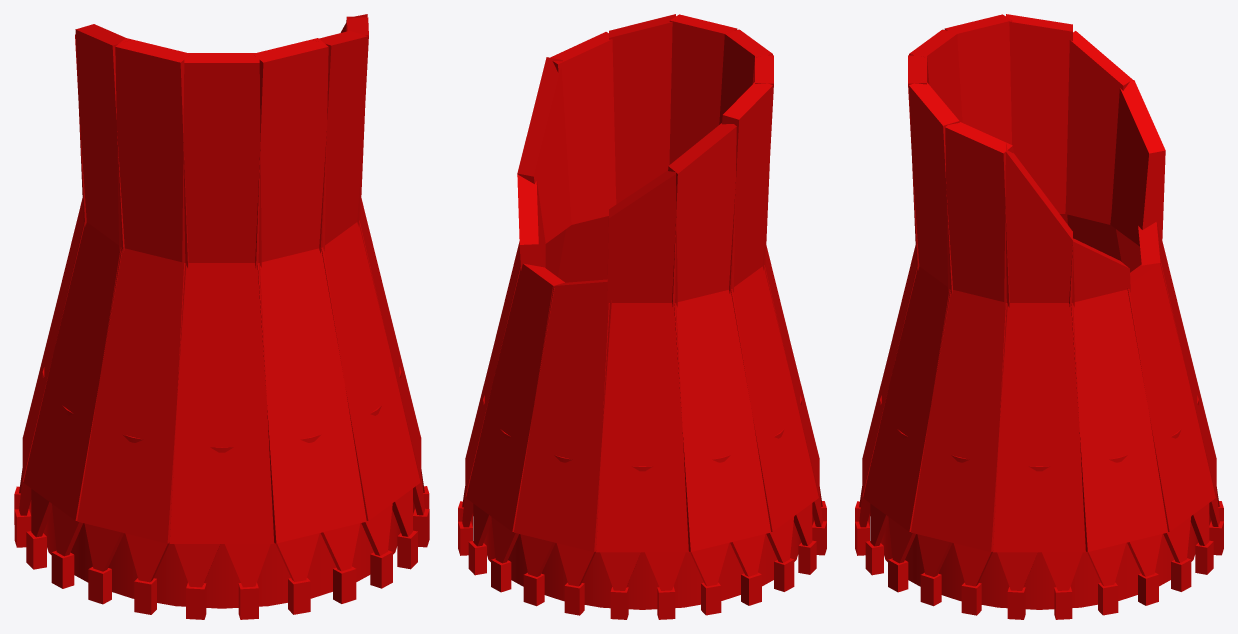
File: SM_Bld_Cooling_Tower_02_Collision.fbx
3 renders of one model, left to right at view 1: azimuth 30°, elevation 25°; view 2: azimuth 150°, elevation 25°; view 3: azimuth 270°, elevation 25°, orthographic. The views are drawn at different scales.
Visible parts, largest first — view 1: SM_Bld_Cooling_Tower_02_Collision; view 2: SM_Bld_Cooling_Tower_02_Collision; view 3: SM_Bld_Cooling_Tower_02_Collision.
Part boxes in pixels (<box>): SM_Bld_Cooling_Tower_02_Collision: <box>14,14,429,619</box>; SM_Bld_Cooling_Tower_02_Collision: <box>458,14,826,619</box>; SM_Bld_Cooling_Tower_02_Collision: <box>855,14,1223,619</box>.
Bounding box in the file's own units: 3436 × 4870 × 3436.
